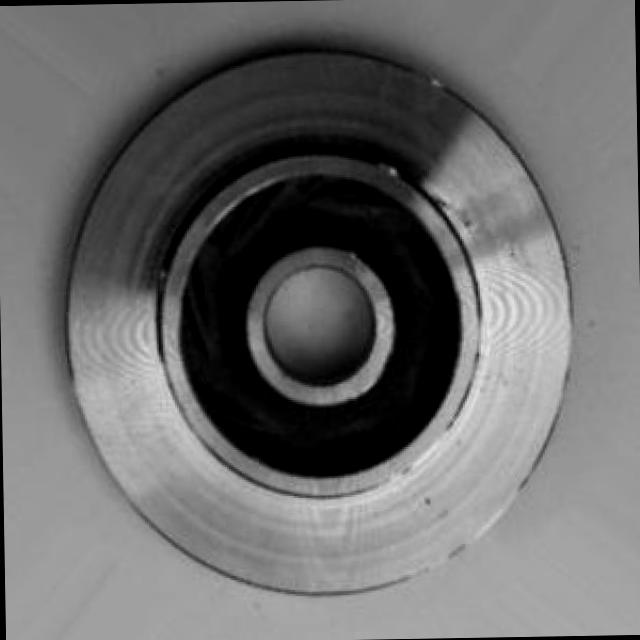Defect: (374, 154, 412, 192)
